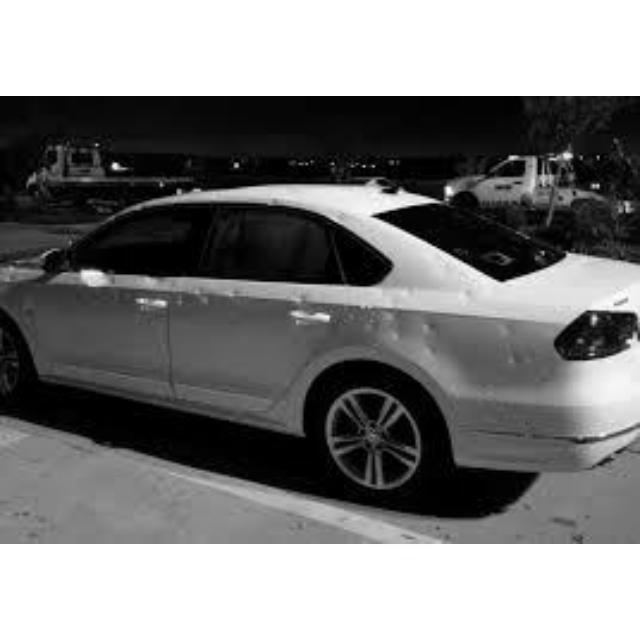doorouter-dent: (184, 283, 301, 400)
quaterpanel-dent: (354, 288, 547, 385)
